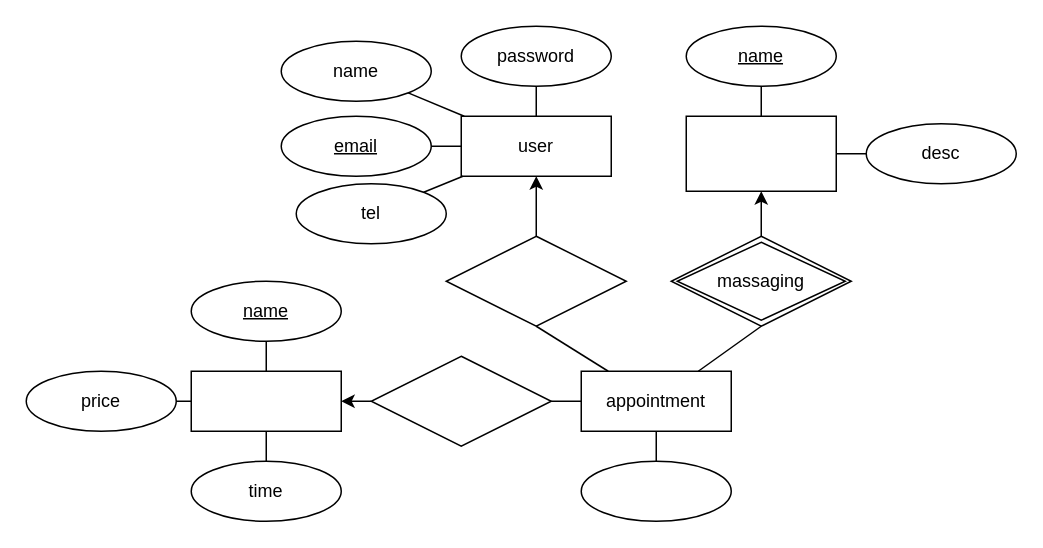
This 1043x548 diagram has some shape labels left out. The centre of each missing label's shape, as x and y in pixels:
date: (x=655, y=490)
doing: (x=460, y=400)
massage: (x=265, y=400)
massaged: (x=535, y=280)
masseur: (x=760, y=153)
